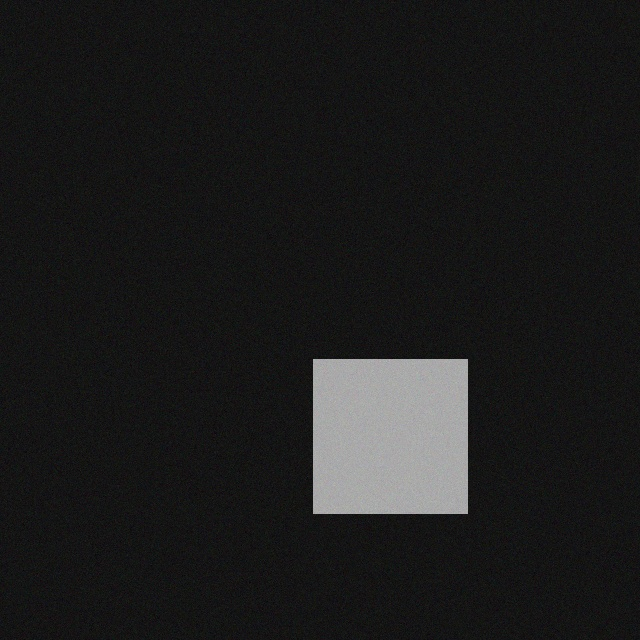square: (301, 352, 455, 506)
